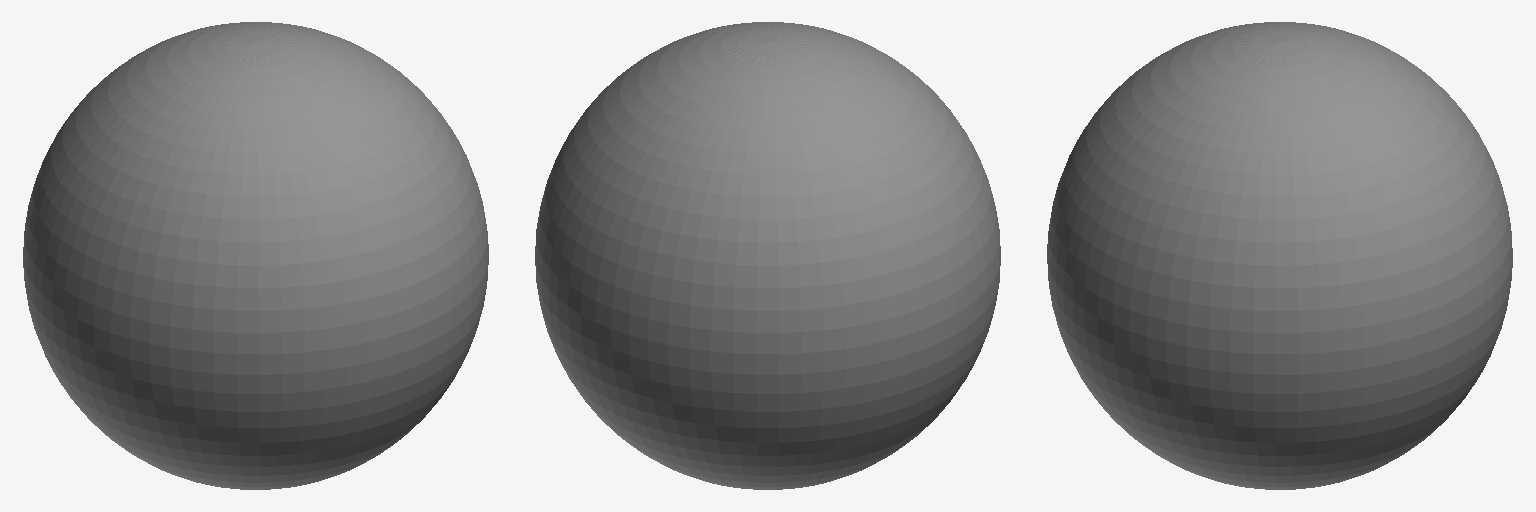
Rendered from auraEsfera.obj.
3 views of the same model, side by side, from view 1: azimuth 30°, elevation 25°; view 2: azimuth 150°, elevation 25°; view 3: azimuth 270°, elevation 25° (orthographic).
Parts seen in each view (by area): view 1: auraEsfera; view 2: auraEsfera; view 3: auraEsfera.
Part boxes in pixels (x1,y1,x2,y2): auraEsfera: (23, 22, 488, 489); auraEsfera: (535, 22, 1000, 489); auraEsfera: (1047, 22, 1512, 489).
Size of the model in its own units: 1.56 by 1.58 by 1.56.